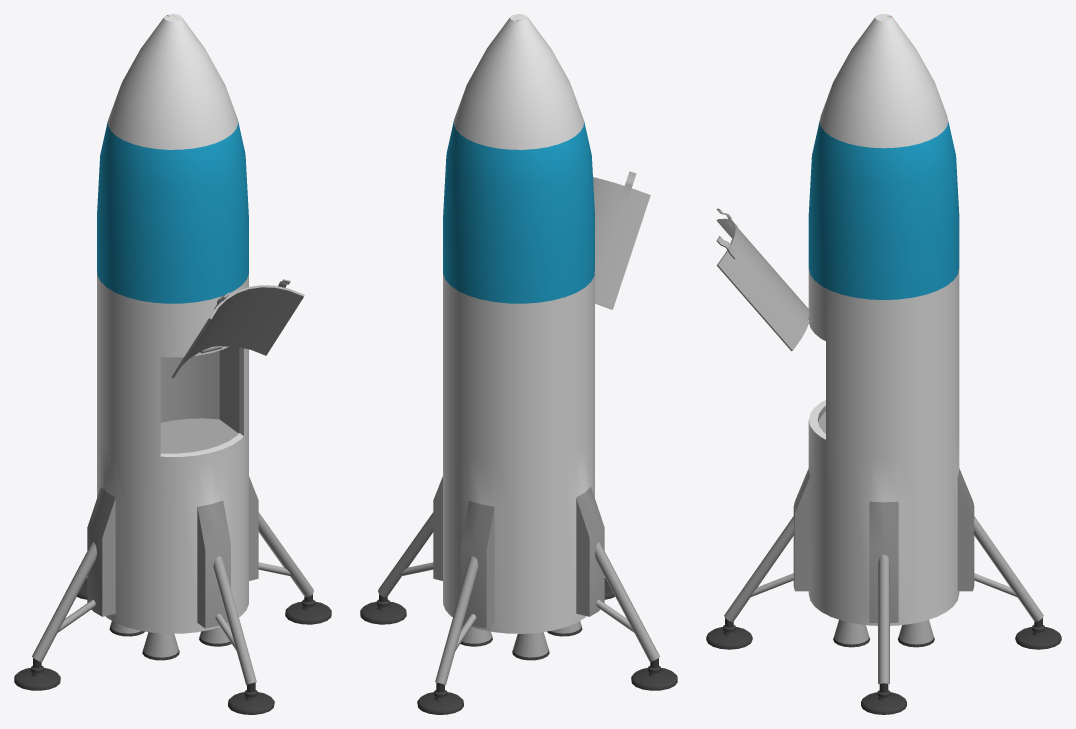
Rendered from ScienceRocket.fbx.
The picture shows the model from 3 angles, left to right: view 1: azimuth 30°, elevation 25°; view 2: azimuth 150°, elevation 25°; view 3: azimuth 270°, elevation 25°; orthographic projection.
Parts seen in each view (by area): view 1: ScienceRocket; view 2: ScienceRocket; view 3: ScienceRocket.
Boxes of the visible parts, left/top/right/bottom form: ScienceRocket: left=14, top=14, right=331, bottom=714; ScienceRocket: left=360, top=14, right=677, bottom=714; ScienceRocket: left=706, top=14, right=1061, bottom=714.
Size of the model in its own units: 211 by 408 by 211.
